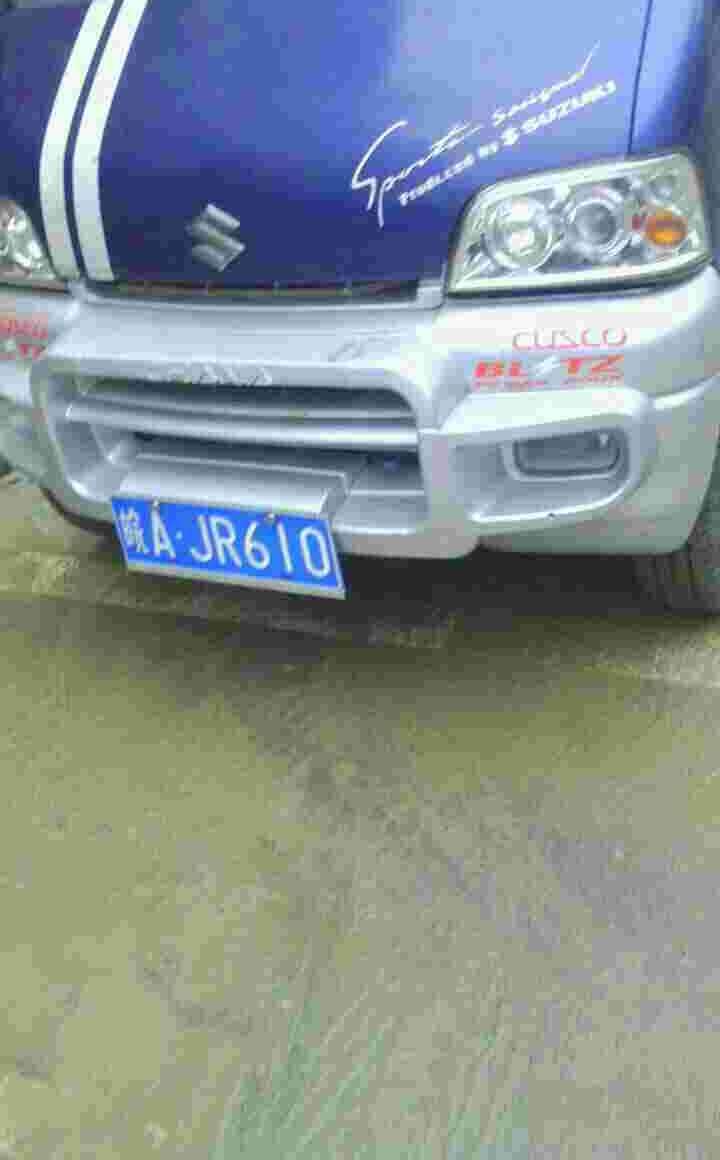plate: (104, 487, 348, 593)
